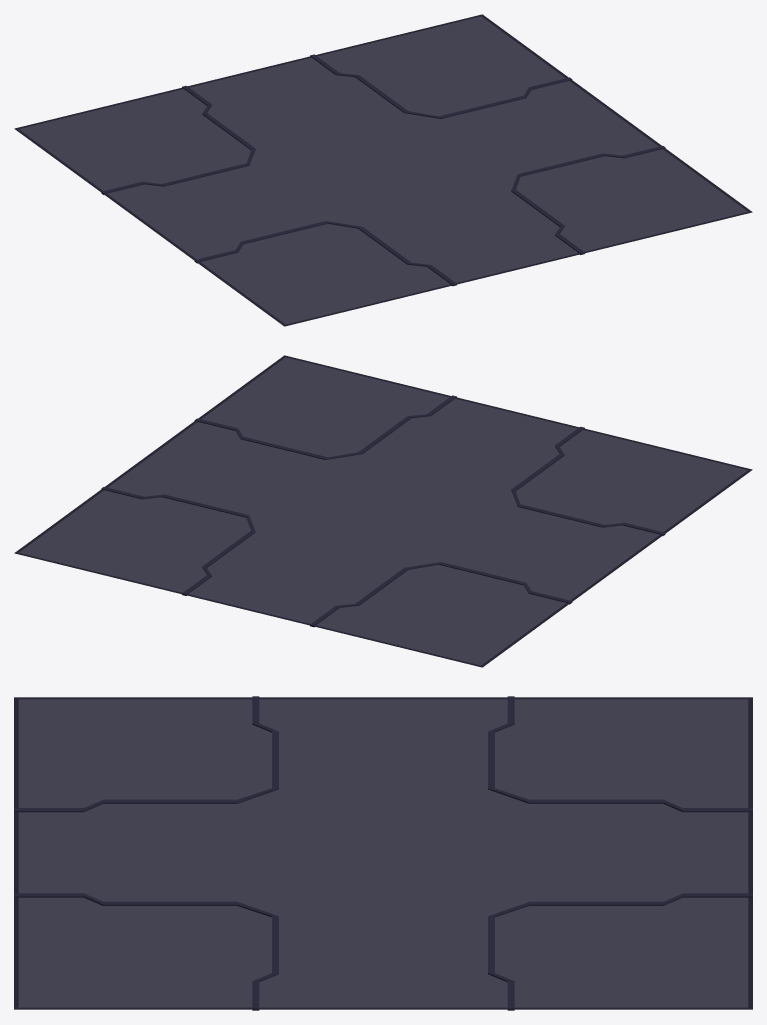
The model's file is GroundB.fbx.
3 renders of one model, top to bottom at view 1: azimuth 30°, elevation 25°; view 2: azimuth 150°, elevation 25°; view 3: azimuth 270°, elevation 25°, orthographic. The views are drawn at different scales.
Parts seen in each view (by area): view 1: GroundB; view 2: GroundB; view 3: GroundB.
Boxes of the visible parts, left/top/right/bottom form: GroundB: left=14, top=14, right=752, bottom=326; GroundB: left=14, top=355, right=752, bottom=667; GroundB: left=14, top=696, right=752, bottom=1010.
Size of the model in its own units: 400 by 1.47 by 400.
